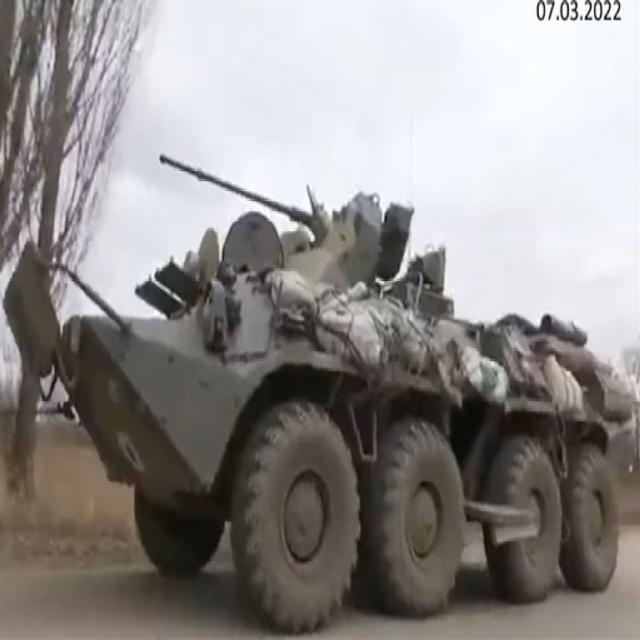APC-IFV: (40, 142, 624, 638)
